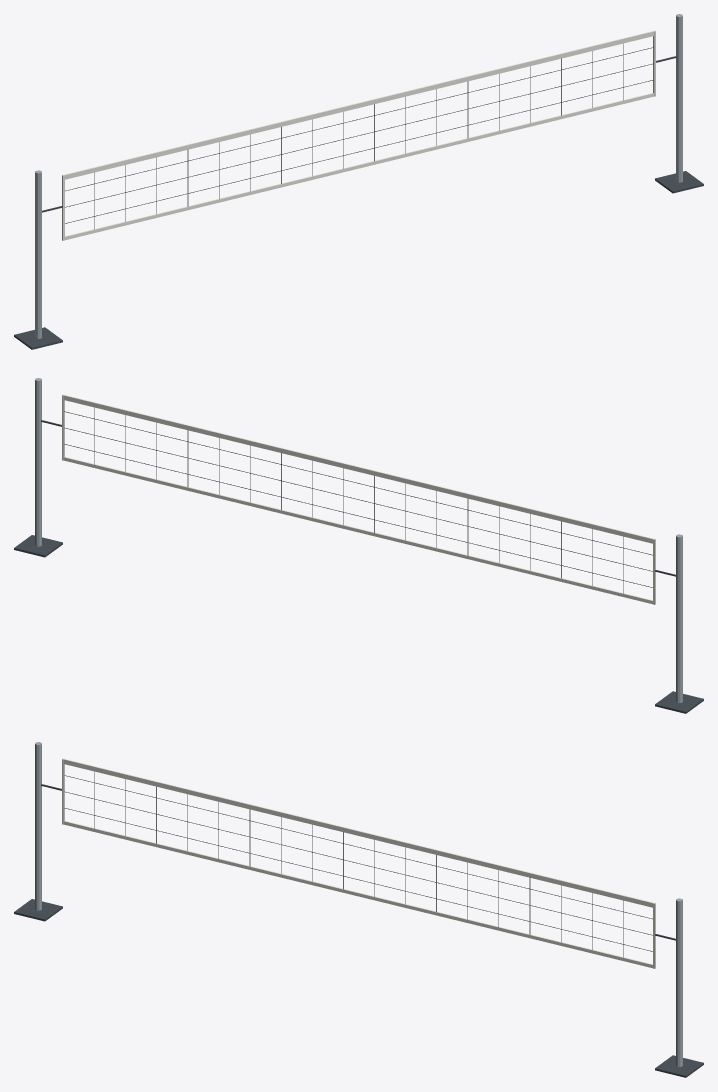
Rendered from GS_VolleyballNet_01.glb.
3 views of the same model, one above another, from view 1: azimuth 30°, elevation 25°; view 2: azimuth 150°, elevation 25°; view 3: azimuth 330°, elevation 25° (orthographic).
Visible parts, largest first — view 1: GS_VolleyballNet_01; view 2: GS_VolleyballNet_01; view 3: GS_VolleyballNet_01.
Boxes of the visible parts, x1,y1,x2,y2 form: GS_VolleyballNet_01: (14,14,703,349); GS_VolleyballNet_01: (14,378,703,713); GS_VolleyballNet_01: (14,742,703,1077).
Size of the model in its own units: 10.8 by 2.58 by 0.5.
1 material, 1 textured.
